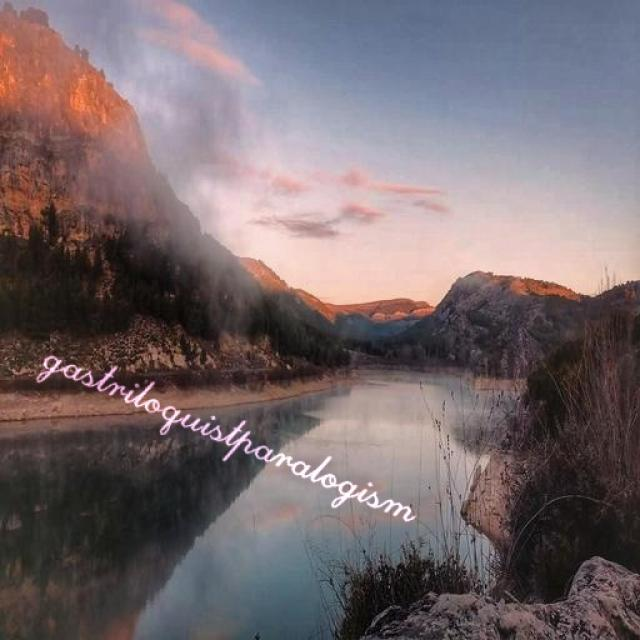watermark: (31, 334, 442, 530)
